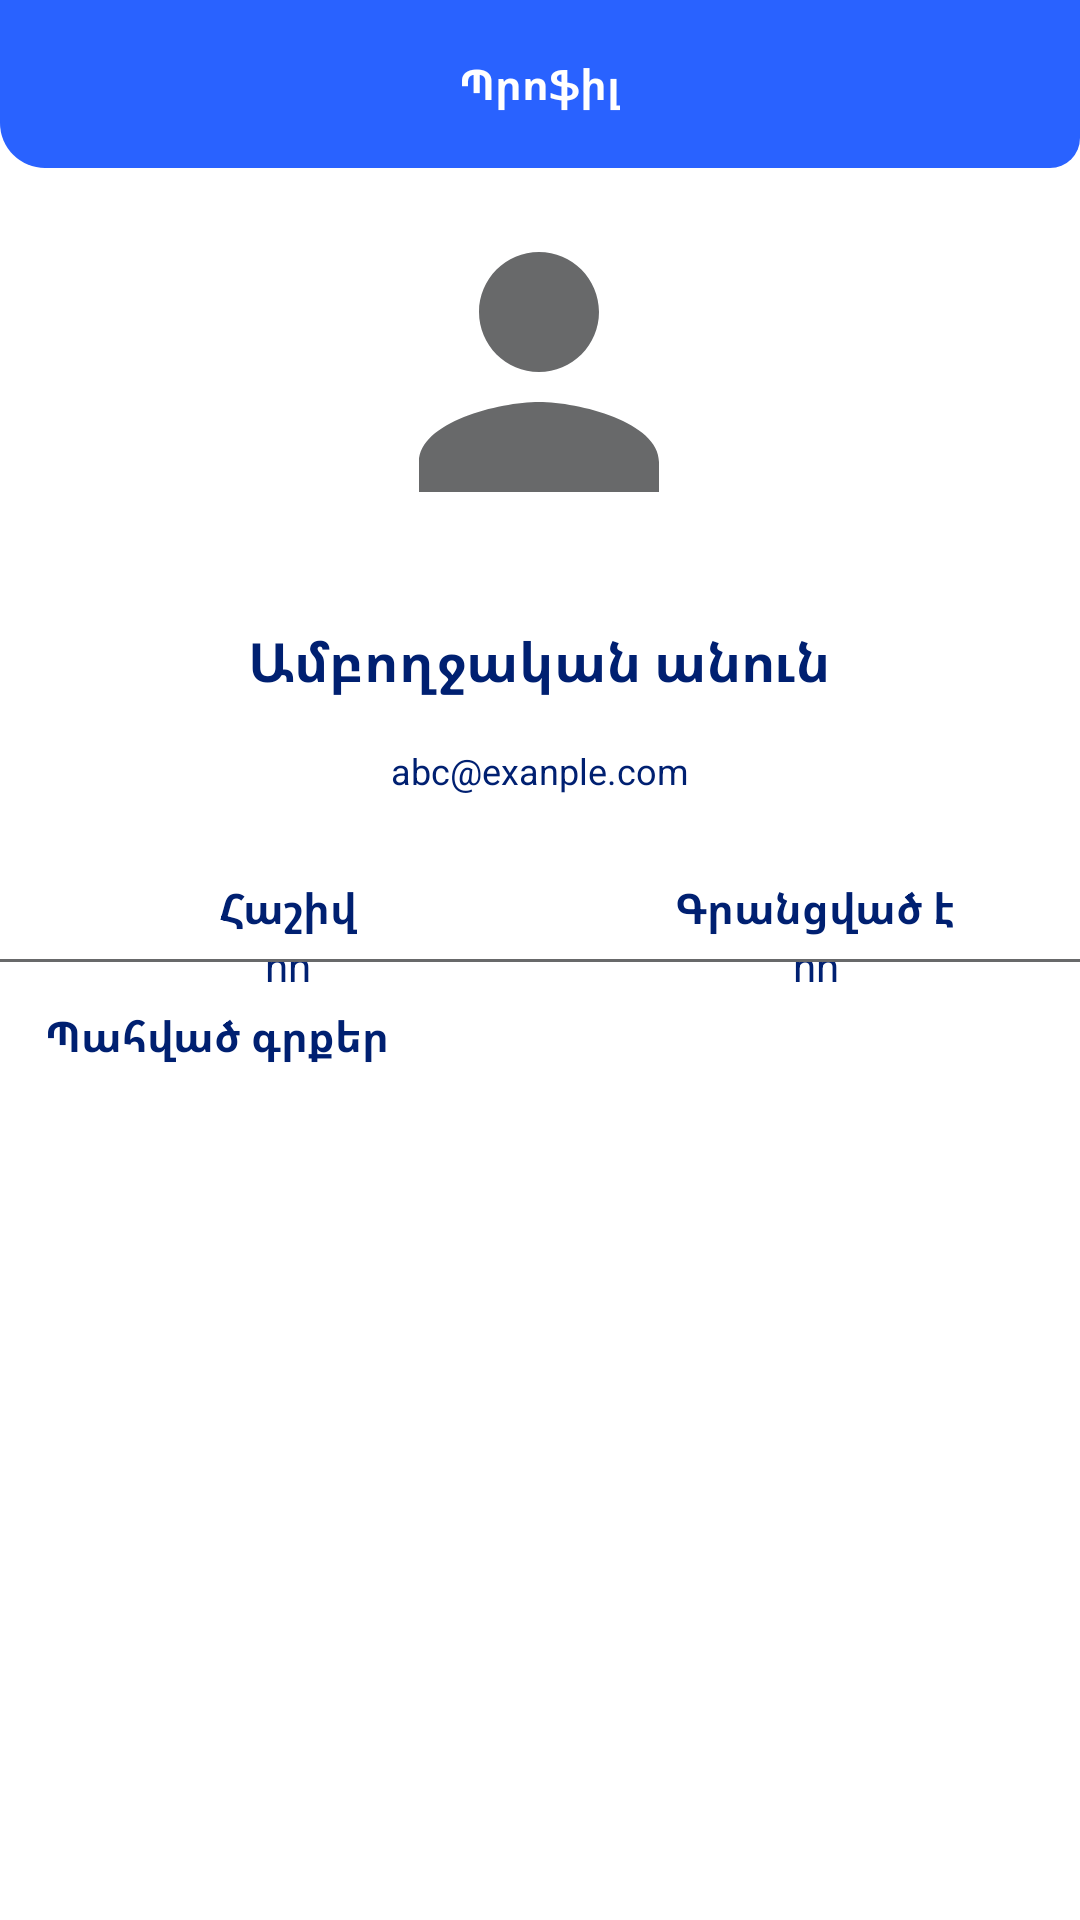

Point at icon controls on the screen. Image size 1080 × 1920, points as point (x, y).
person: point (539, 372)
